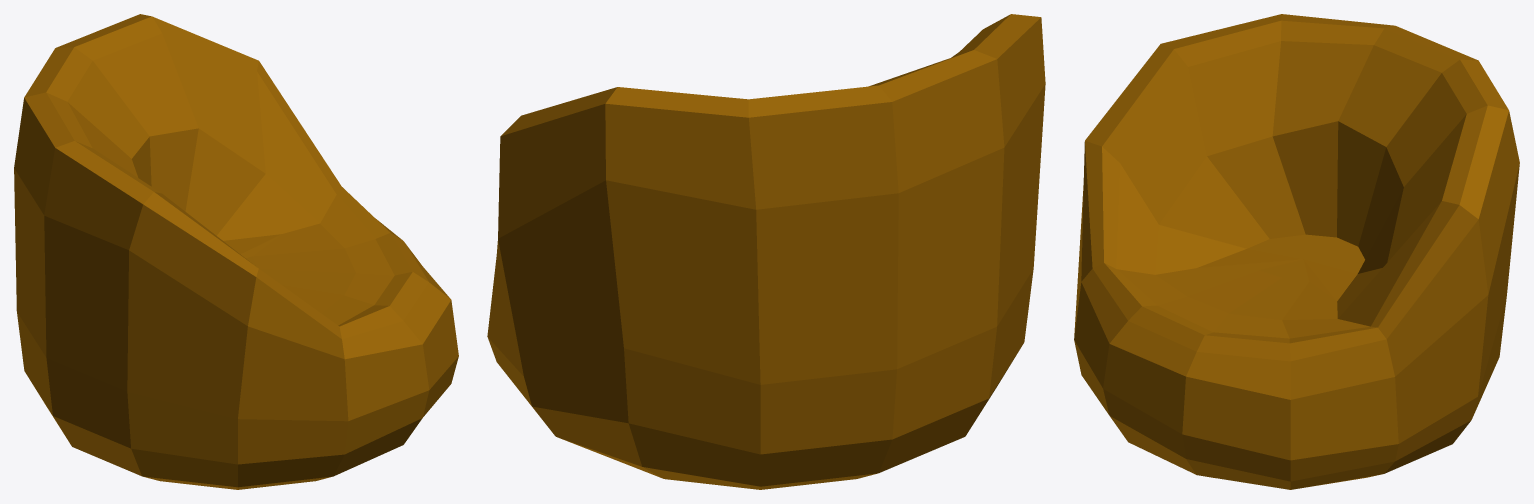
The model's file is SaccoChairV3Orange.fbx.
3 renders of one model, left to right at view 1: azimuth 30°, elevation 25°; view 2: azimuth 150°, elevation 25°; view 3: azimuth 270°, elevation 25°, orthographic. The views are drawn at different scales.
Visible parts, largest first — view 1: SaccoChairV3Orange; view 2: SaccoChairV3Orange; view 3: SaccoChairV3Orange.
Boxes of the visible parts, bbox=[...] form: SaccoChairV3Orange: bbox=[14, 14, 458, 489]; SaccoChairV3Orange: bbox=[487, 14, 1045, 489]; SaccoChairV3Orange: bbox=[1074, 14, 1519, 489].
Size of the model in its own units: 110 by 90.61 by 112.
